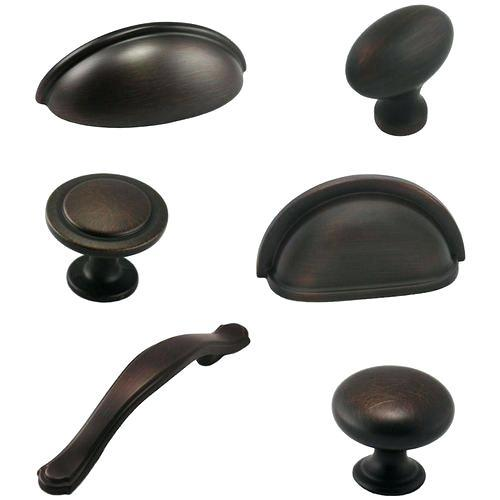handle: (30, 299, 250, 500), (248, 164, 465, 304), (30, 20, 242, 126), (326, 349, 456, 500), (40, 173, 170, 312), (335, 10, 458, 132)
